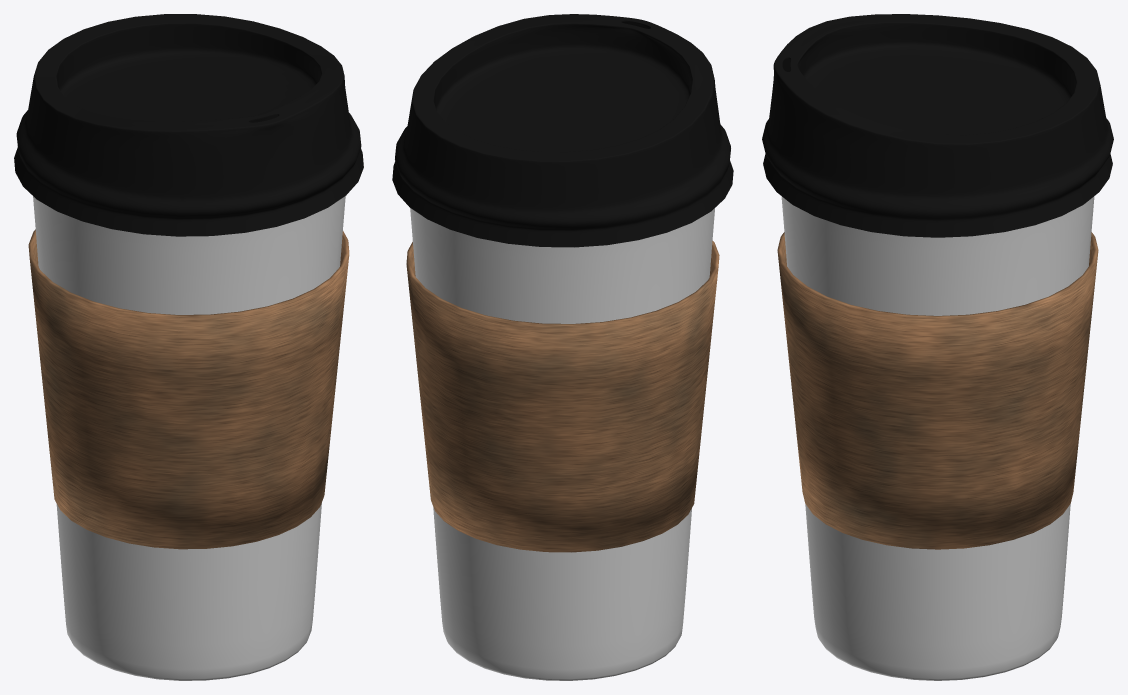
Rendered from coffee_cup.gltf.
The picture shows the model from 3 angles, left to right: view 1: azimuth 30°, elevation 25°; view 2: azimuth 150°, elevation 25°; view 3: azimuth 270°, elevation 25°; orthographic projection. The views are drawn at different scales.
Parts seen in each view (by area): view 1: g_heat_guard, g_lid, g_cup; view 2: g_heat_guard, g_lid, g_cup; view 3: g_heat_guard, g_lid, g_cup.
Boxes of the visible parts, x1,y1,x2,y2 form: g_heat_guard: [28, 229, 349, 549]; g_lid: [14, 14, 363, 236]; g_cup: [33, 196, 345, 680]; g_heat_guard: [406, 241, 719, 552]; g_lid: [392, 14, 733, 247]; g_cup: [410, 208, 714, 680]; g_heat_guard: [777, 232, 1098, 549]; g_lid: [762, 14, 1113, 237]; g_cup: [781, 196, 1094, 680].
Bounding box in the file's own units: 0.9272 × 1.65 × 0.9324.
3 materials, 1 textured.
